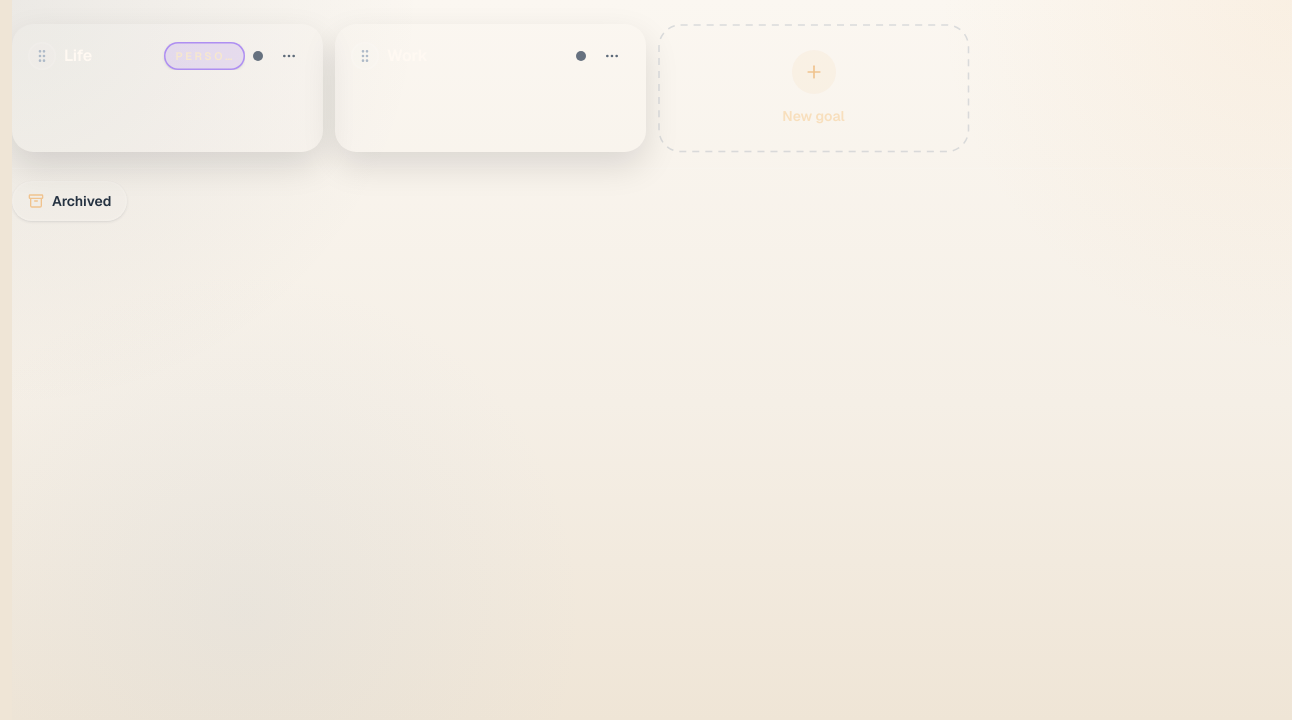
Test: GoalsSurface › groups archived goals in flat sections and omits origin from cards
The image size is (1292, 720).
Click the button "Archived": (70, 201) [12, 181, 127, 221]
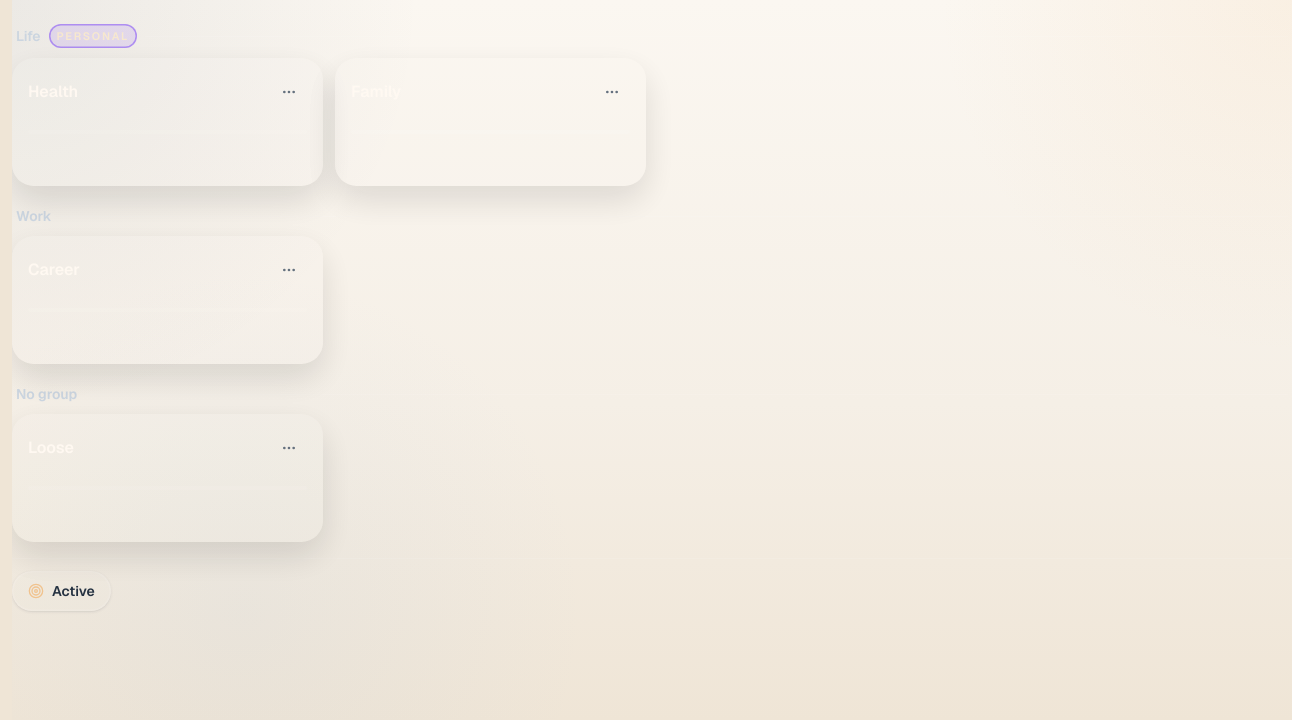
Check: the button "Health" is shown, box [12, 58, 323, 186]
Check: the button "Family" is shown, box [335, 58, 646, 186]
Check: the button "Career" is shown, box [12, 236, 323, 364]
